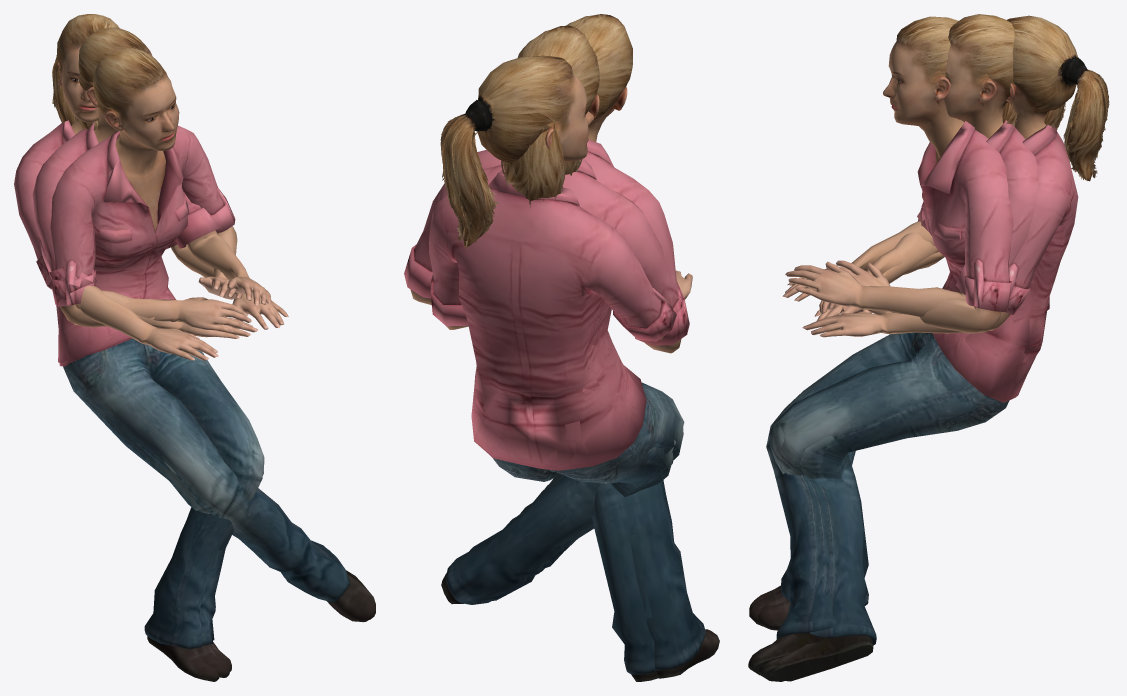
The model's file is cliente-ana.glb.
3 renders of one model, left to right at view 1: azimuth 30°, elevation 25°; view 2: azimuth 150°, elevation 25°; view 3: azimuth 270°, elevation 25°, orthographic. The views are drawn at different scales.
Visible parts, largest first — view 1: pose_0, pose_1, pose_2; view 2: pose_0, pose_1, pose_2; view 3: pose_1, pose_0, pose_2.
Boxes of the visible parts, x1,y1,x2,y2 form: pose_0: (14,14,375,681); pose_1: (50,48,359,672); pose_2: (32,27,363,677); pose_0: (429,55,719,678); pose_1: (404,14,689,681); pose_2: (437,25,682,676); pose_1: (758,16,1041,681); pose_0: (748,15,1109,675); pose_2: (749,14,1065,681).
Size of the model in its own units: 0.6129 by 1.39 by 0.7541.
Materials: 3 (3 with a texture image).
